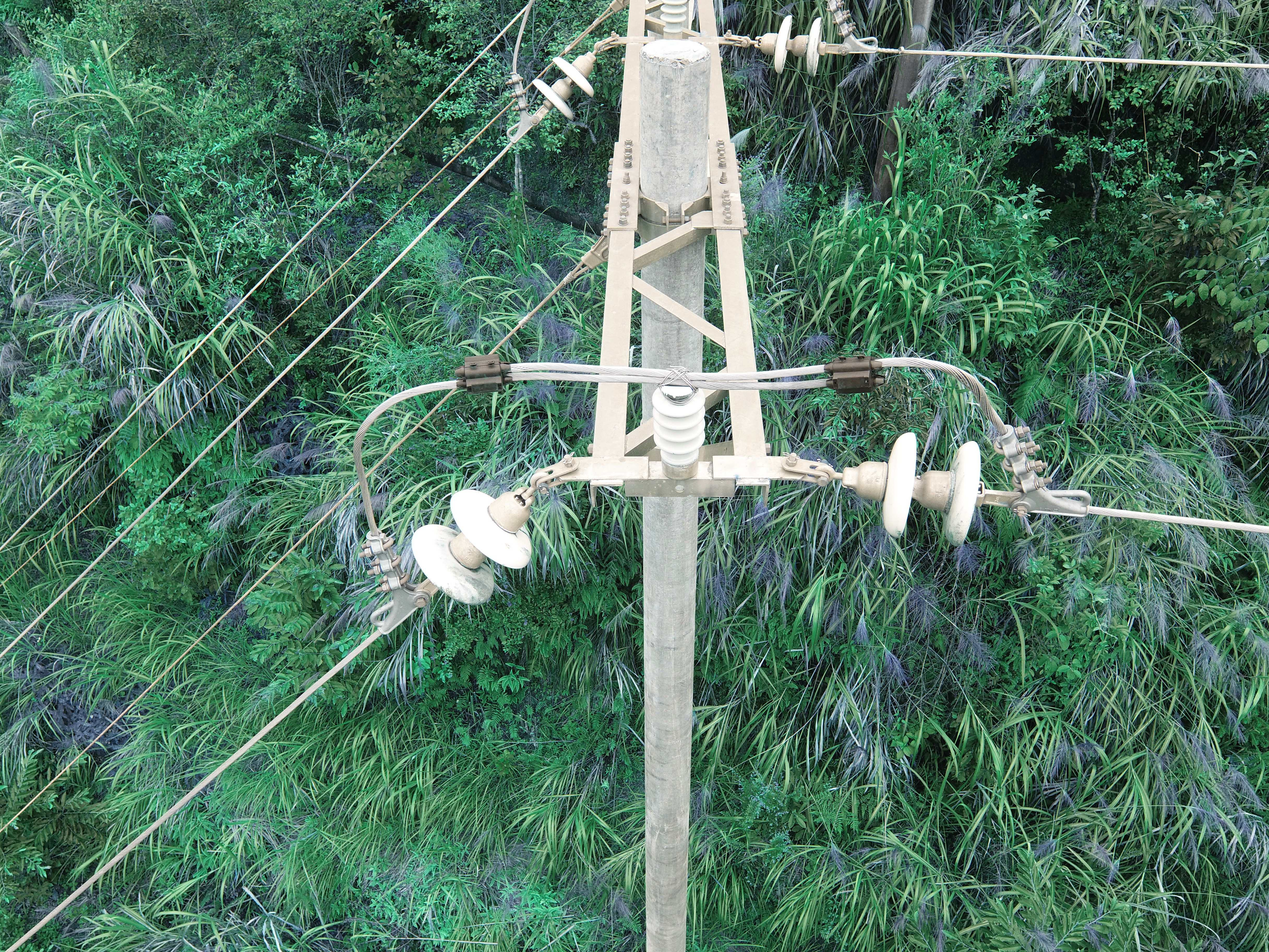severe_soiling_no_discharge_whole: (403, 475, 544, 609), (839, 427, 992, 550), (753, 9, 828, 81)
